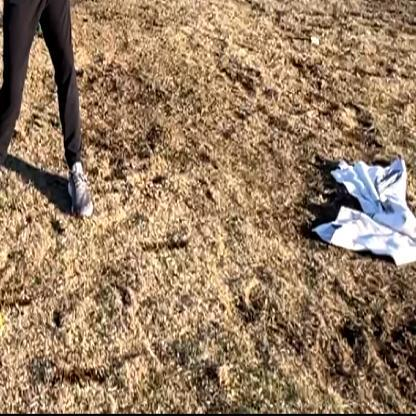ClubHead: (0, 306, 3, 333)
